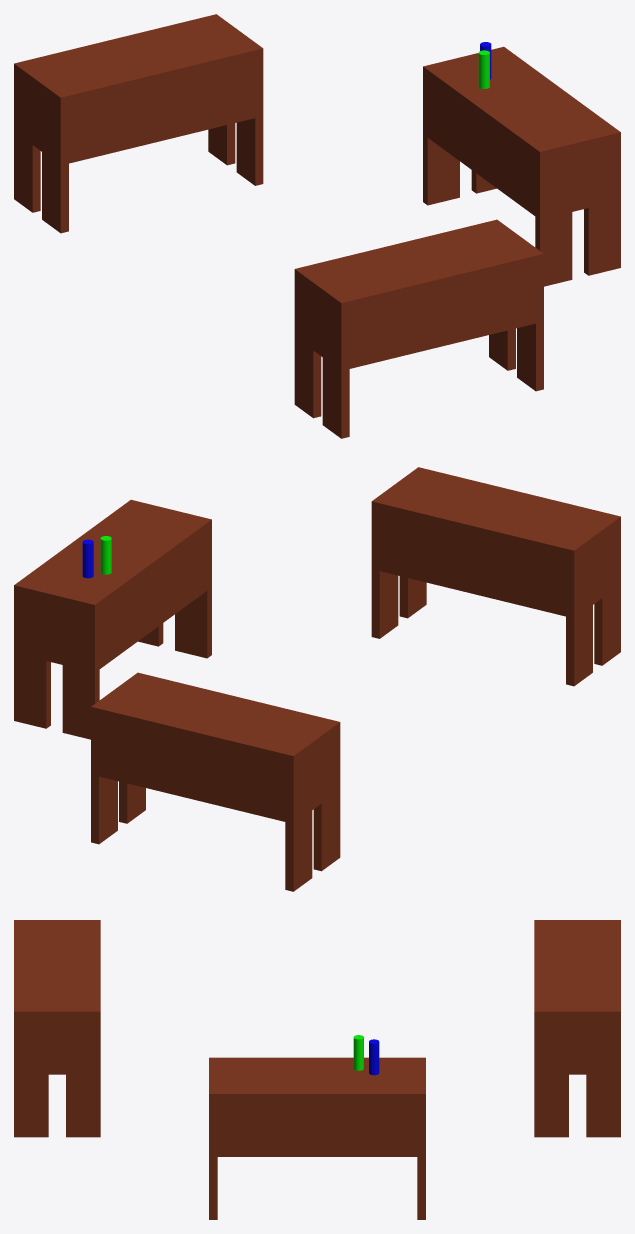
The model's file is sort_clutter_2.dae.
The picture shows the model from 3 angles, top to bottom: view 1: azimuth 30°, elevation 25°; view 2: azimuth 150°, elevation 25°; view 3: azimuth 270°, elevation 25°; orthographic projection. The views are drawn at different scales.
Parts seen in each view (by area): view 1: base (×14); view 2: base (×14); view 3: base (×9).
Part boxes in pixels (left/top/right/bottom): base (×14): left=14, top=14, right=620, bottom=438; base (×14): left=14, top=467, right=620, bottom=891; base (×9): left=14, top=920, right=620, bottom=1219.
Bounding box in the file's own units: 2.38 × 3.5 × 1.
